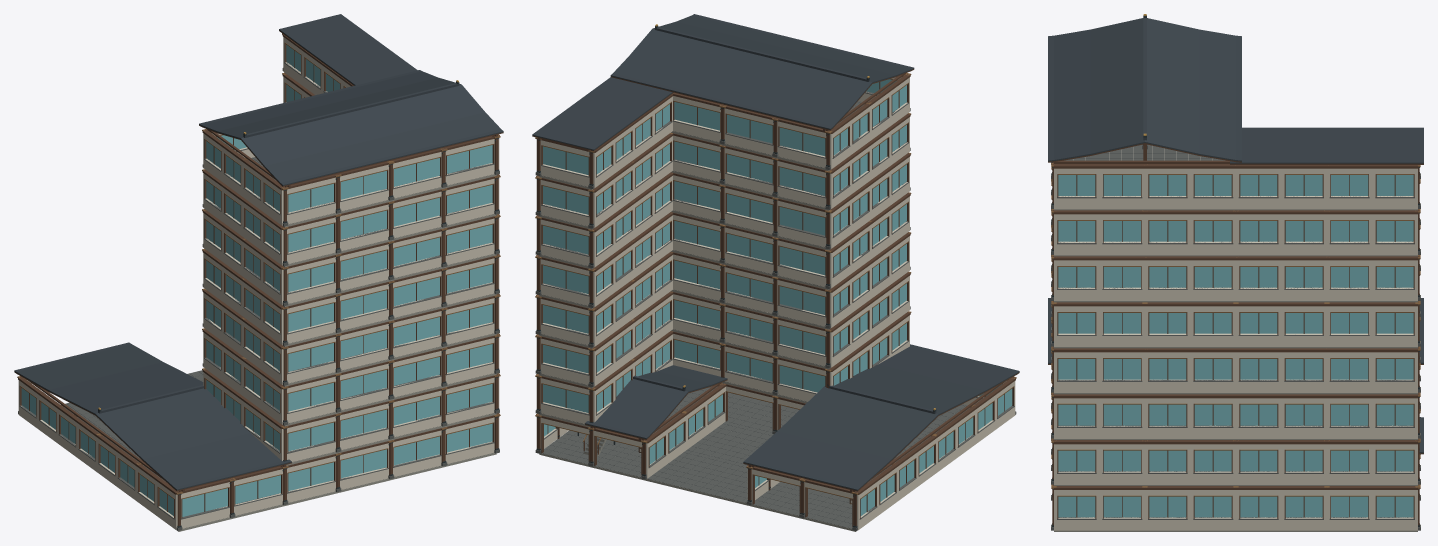
3 views of the same model, side by side, from view 1: azimuth 30°, elevation 25°; view 2: azimuth 150°, elevation 25°; view 3: azimuth 270°, elevation 25° (orthographic). The views are drawn at different scales.
Visible parts, largest first — view 1: 参数墙 · 独立窗玻璃 (×53), 连续屋面 · gable (×2), 连续屋面 · flat; view 2: 参数墙 · 独立窗玻璃 (×62), 连续屋面 · gable (×3), 石铺面与混凝土楼板 (×9), 连续屋面 · flat, 参数墙 · 通行门洞 (×4); view 3: 参数墙 · 独立窗玻璃 (×32), 连续屋面 · gable (×2), 连续屋面 · flat, 石铺面与混凝土楼板 (×2).
Boxes of the visible parts, x1=… form: 参数墙 · 独立窗玻璃 (×53): x1=18, y1=34, x2=496, y2=530; 连续屋面 · gable (×2): x1=14, y1=70, x2=503, y2=491; 连续屋面 · flat: x1=279, y1=14, x2=417, y2=85; 参数墙 · 独立窗玻璃 (×62): x1=539, y1=75, x2=1015, y2=530; 连续屋面 · gable (×3): x1=585, y1=14, x2=1019, y2=491; 石铺面与混凝土楼板 (×9): x1=539, y1=386, x2=856, y2=531; 连续屋面 · flat: x1=532, y1=77, x2=673, y2=151; 参数墙 · 通行门洞 (×4): x1=540, y1=416, x2=856, y2=526; 参数墙 · 独立窗玻璃 (×32): x1=1054, y1=164, x2=1417, y2=530; 连续屋面 · gable (×2): x1=1048, y1=14, x2=1423, y2=364; 连续屋面 · flat: x1=1230, y1=127, x2=1423, y2=164; 石铺面与混凝土楼板 (×2): x1=1064, y1=148, x2=1225, y2=160.
Size of the model in its own units: 29.2 by 29.48 by 25.2.
Materials: 15 (15 with a texture image).
